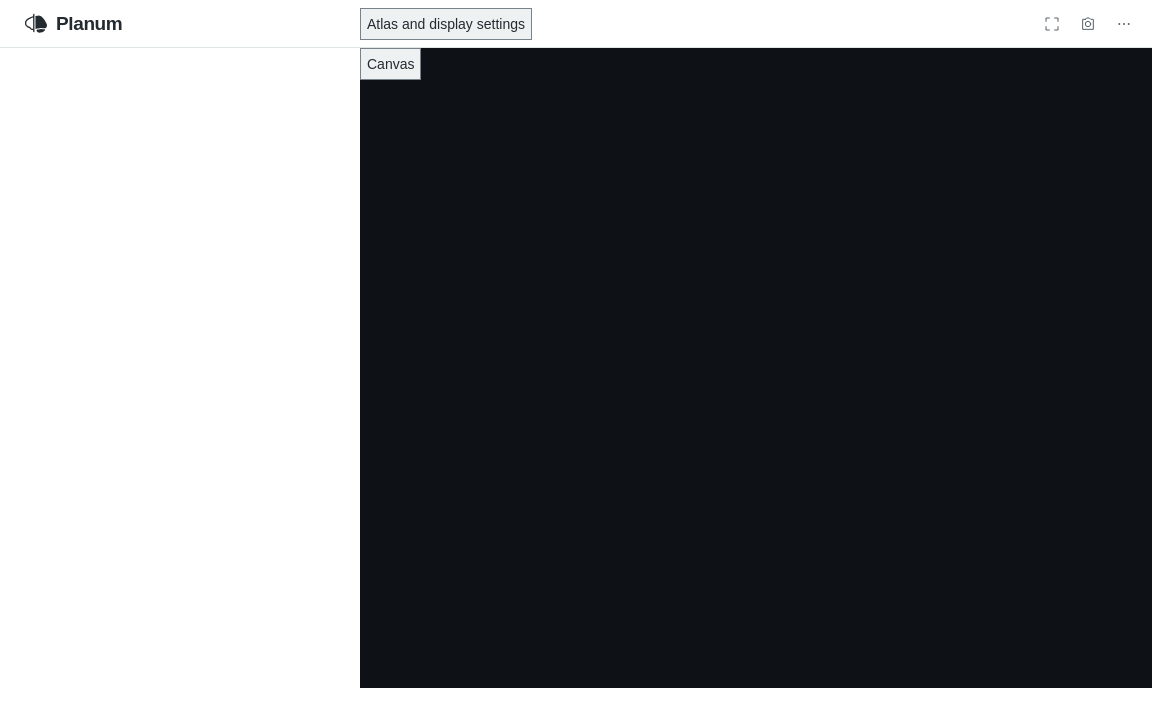
it: Masthead › text at 200 % stays inside the skip link and the radios (WCAG 1.4.4, 1.4.12)
What coordinates should you click on to do the following:
click the button named "More settings"
I would click on:
 (1124, 24)
Its box is [1108,8,1140,40].
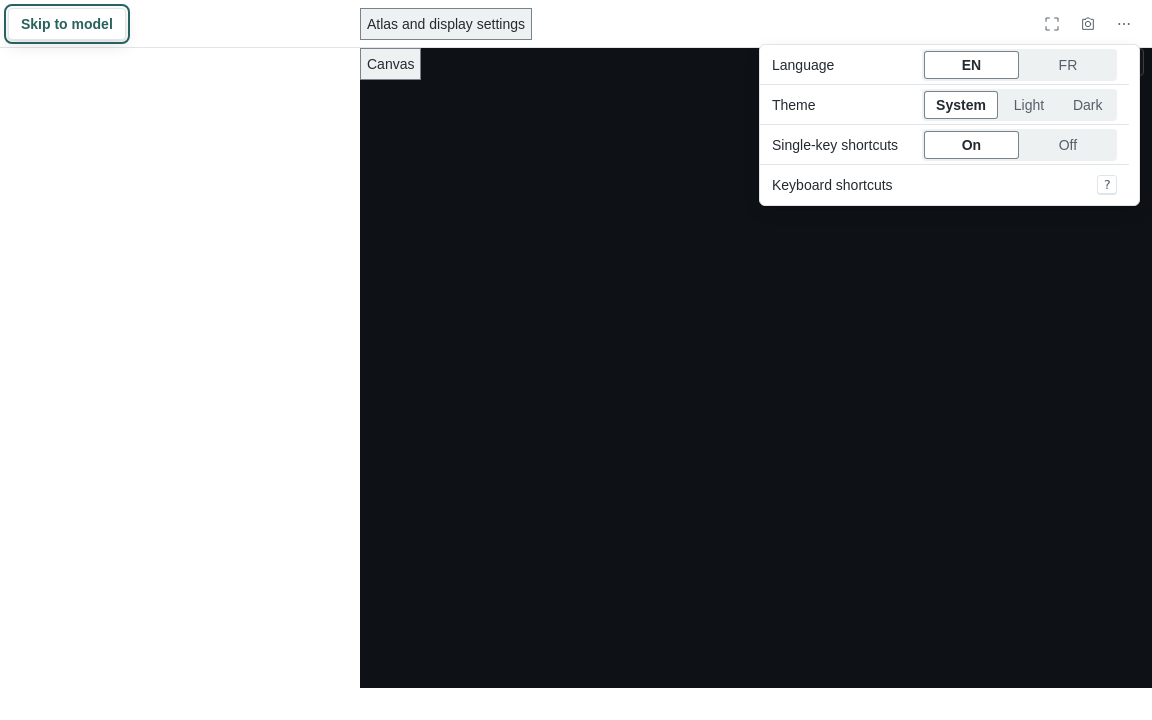
Expected: the element named "Language" is shown, [922,48,1117,80]
